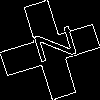Z: (25, 25, 77, 68)
